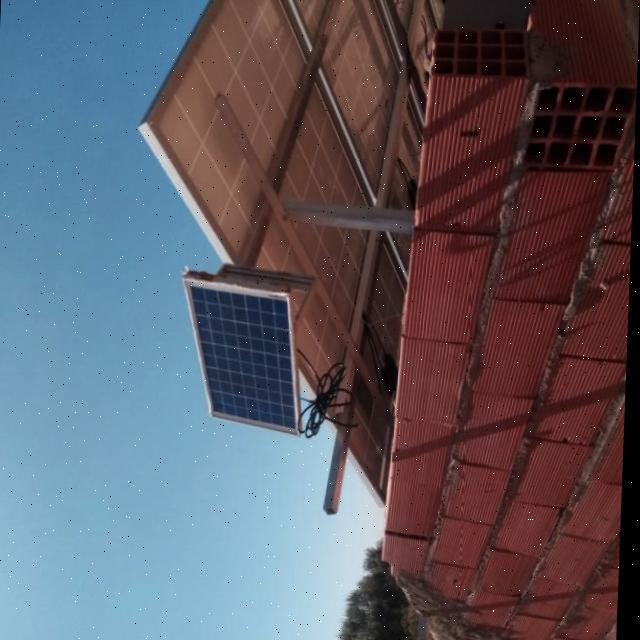Normal Solar Panel: (180, 279, 306, 435)
